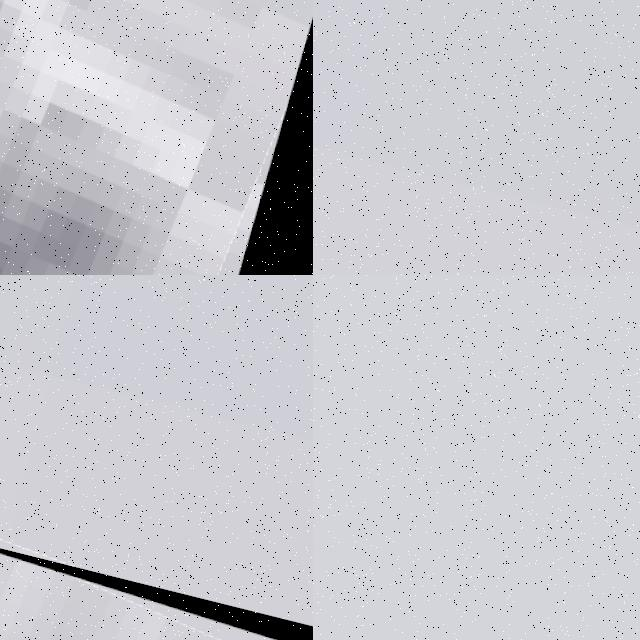drone: (0, 0, 313, 275), (0, 525, 313, 640)
